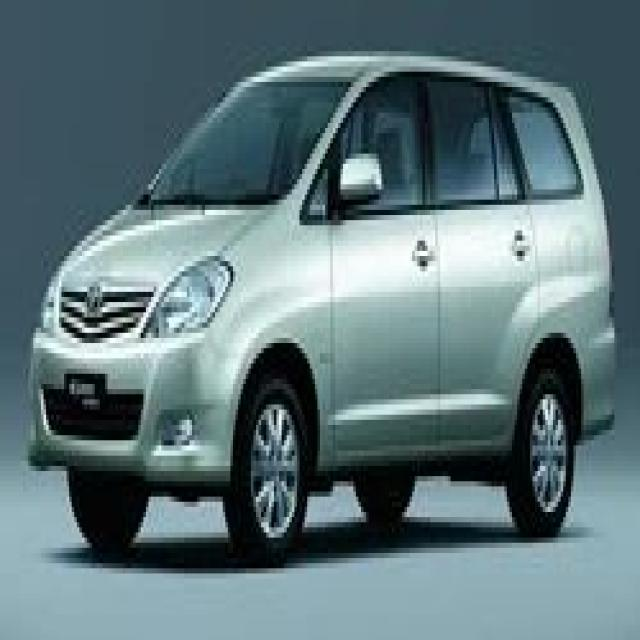light_vehicle: (27, 54, 613, 566)
